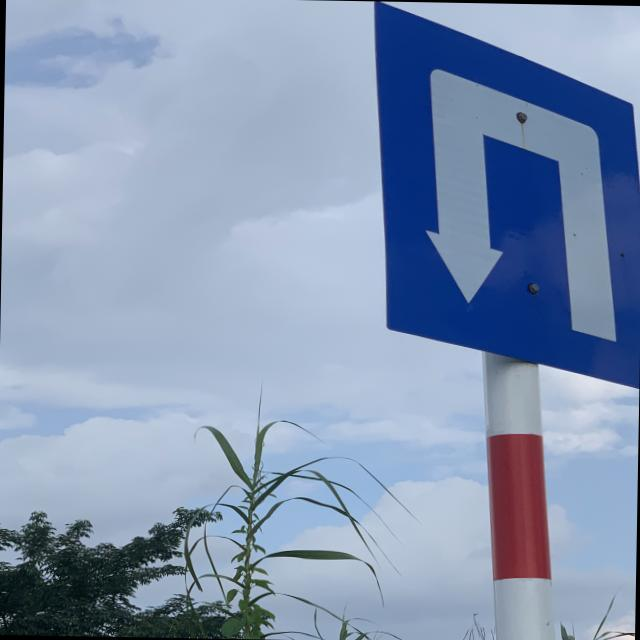Den_Giao_Thong: (363, 1, 640, 390)
